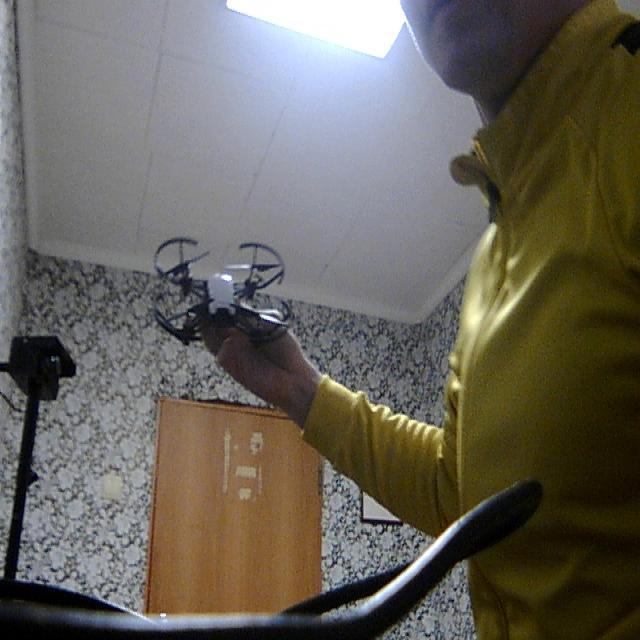drone: (138, 221, 306, 366)
